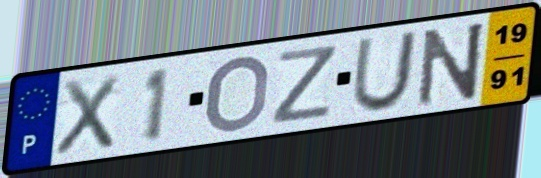1: (141, 63, 171, 146)
N: (414, 18, 488, 110)
O: (201, 53, 273, 135)
U: (348, 28, 421, 115)
X: (51, 72, 122, 159)
Z: (268, 42, 342, 128)
